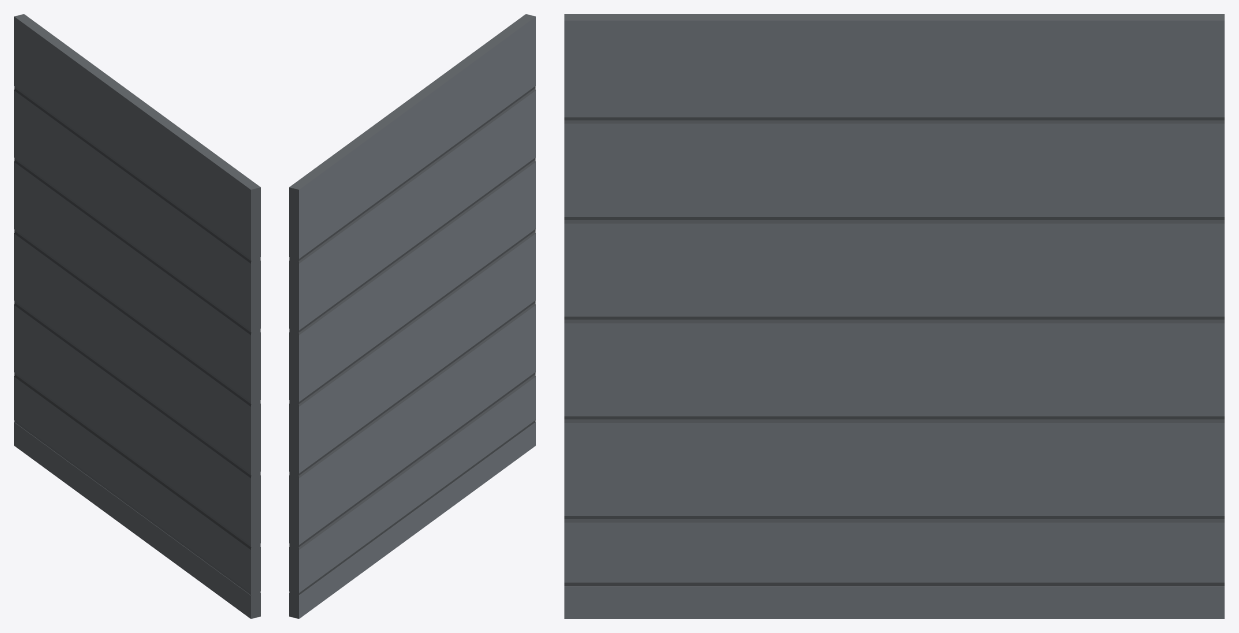
Rendered from SM_Buildings_Warehouse_01_Gate.fbx.
3 views of the same model, side by side, from view 1: azimuth 30°, elevation 25°; view 2: azimuth 150°, elevation 25°; view 3: azimuth 270°, elevation 25° (orthographic). The views are drawn at different scales.
Parts seen in each view (by area): view 1: SM_Buildings_Warehouse_01_Gate; view 2: SM_Buildings_Warehouse_01_Gate; view 3: SM_Buildings_Warehouse_01_Gate.
Boxes of the visible parts, x1,y1,x2,y2 form: SM_Buildings_Warehouse_01_Gate: [14, 14, 260, 618]; SM_Buildings_Warehouse_01_Gate: [289, 14, 535, 618]; SM_Buildings_Warehouse_01_Gate: [564, 14, 1224, 618].
Size of the model in its own units: 0.0857 by 3.5 by 3.5.
